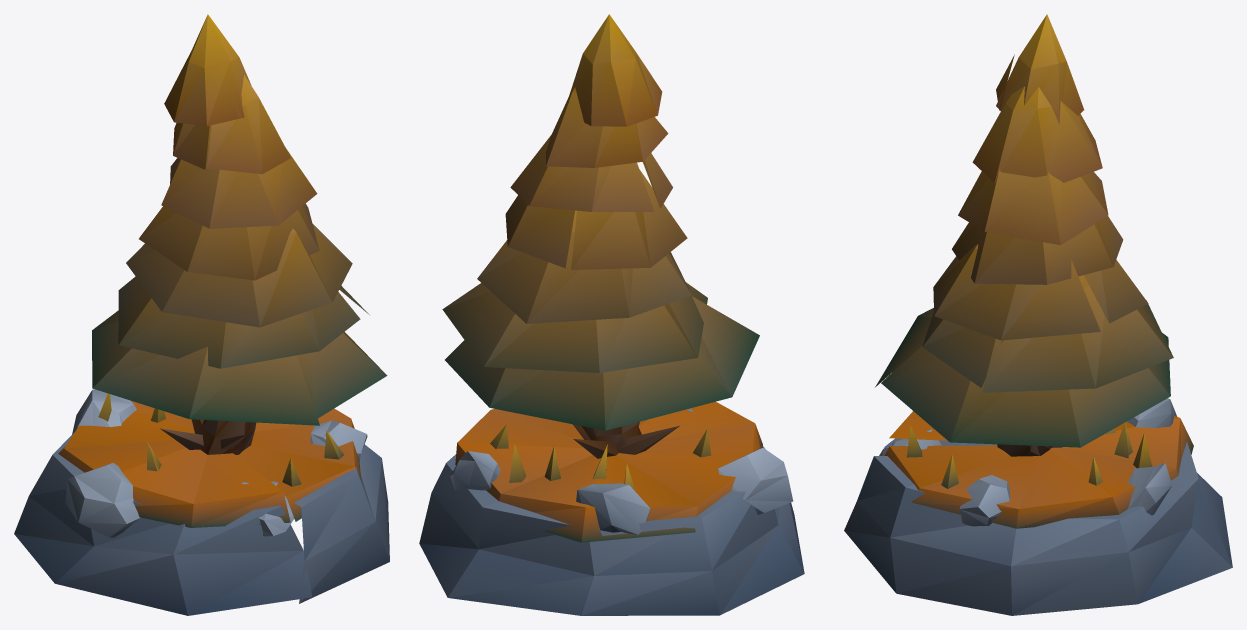
File: pohon_pine_autumn_396140.glb
The picture shows the model from 3 angles, left to right: view 1: azimuth 30°, elevation 25°; view 2: azimuth 150°, elevation 25°; view 3: azimuth 270°, elevation 25°; orthographic projection. The views are drawn at different scales.
Visible parts, largest first — view 1: Dedaunan_Pinus, Pulau_Batu_Tepi_Sungai, Batang_Dan_Akar; view 2: Dedaunan_Pinus, Pulau_Batu_Tepi_Sungai, Batang_Dan_Akar; view 3: Dedaunan_Pinus, Pulau_Batu_Tepi_Sungai, Batang_Dan_Akar.
Part boxes in pixels (box(x1,y1,x2,y2)): Dedaunan_Pinus: box(92, 14, 387, 425); Pulau_Batu_Tepi_Sungai: box(14, 389, 389, 615); Batang_Dan_Akar: box(160, 419, 256, 454); Dedaunan_Pinus: box(442, 14, 759, 430); Pulau_Batu_Tepi_Sungai: box(419, 401, 804, 615); Batang_Dan_Akar: box(573, 421, 679, 458); Dedaunan_Pinus: box(875, 14, 1173, 447); Pulau_Batu_Tepi_Sungai: box(844, 398, 1232, 615); Batang_Dan_Akar: box(997, 444, 1062, 456).
Size of the model in its own units: 5.41 by 8.04 by 5.54.
